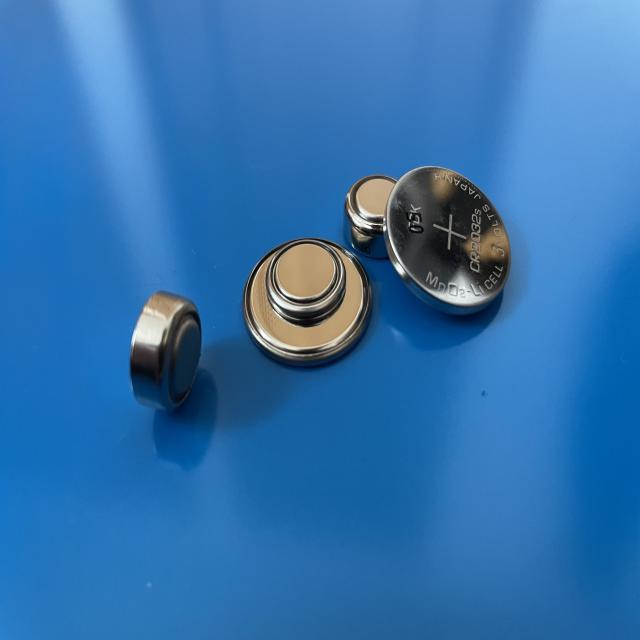COIN: (384, 160, 513, 320), (240, 237, 374, 373), (127, 282, 207, 416), (268, 240, 347, 320), (341, 175, 411, 264)
